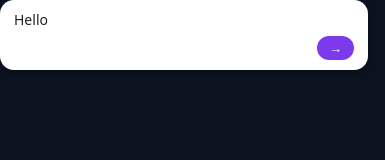
Test: Bubble › shows one line at a time and advances with Next
Expected: the text "Hello" is shown, [14,10,48,29]
Expected: the text "World" is not shown
Click the button named "Next".
click(336, 48)  # box [317,36,354,60]
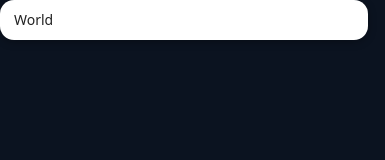
Expected: the text "World" is shown, [14,10,53,29]
